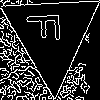F: (26, 10, 69, 43)
